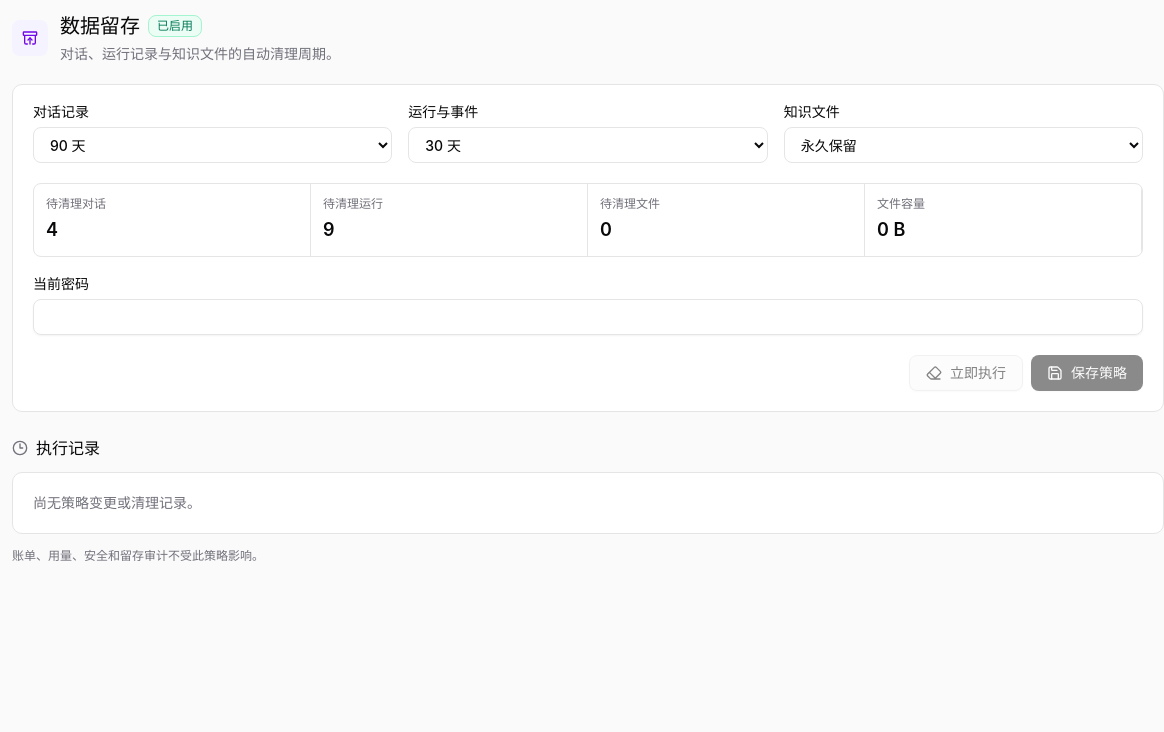
Test case: RetentionSettingsSection › saves a custom policy and requires confirmation before immediate cleanup
Expected: the heading "数据留存" is shown, x1=60 y1=12 x2=140 y2=40
Expected: the text "待清理对话" is shown, x1=46 y1=196 x2=106 y2=211
Select "180 天" in the dropdown named "对话记录留存周期". click: (213,145)
box: x1=33 y1=127 x2=392 y2=163
Select "90 天" in the dropdown named "运行与事件留存周期". click: (588,145)
box: x1=408 y1=127 x2=768 y2=163
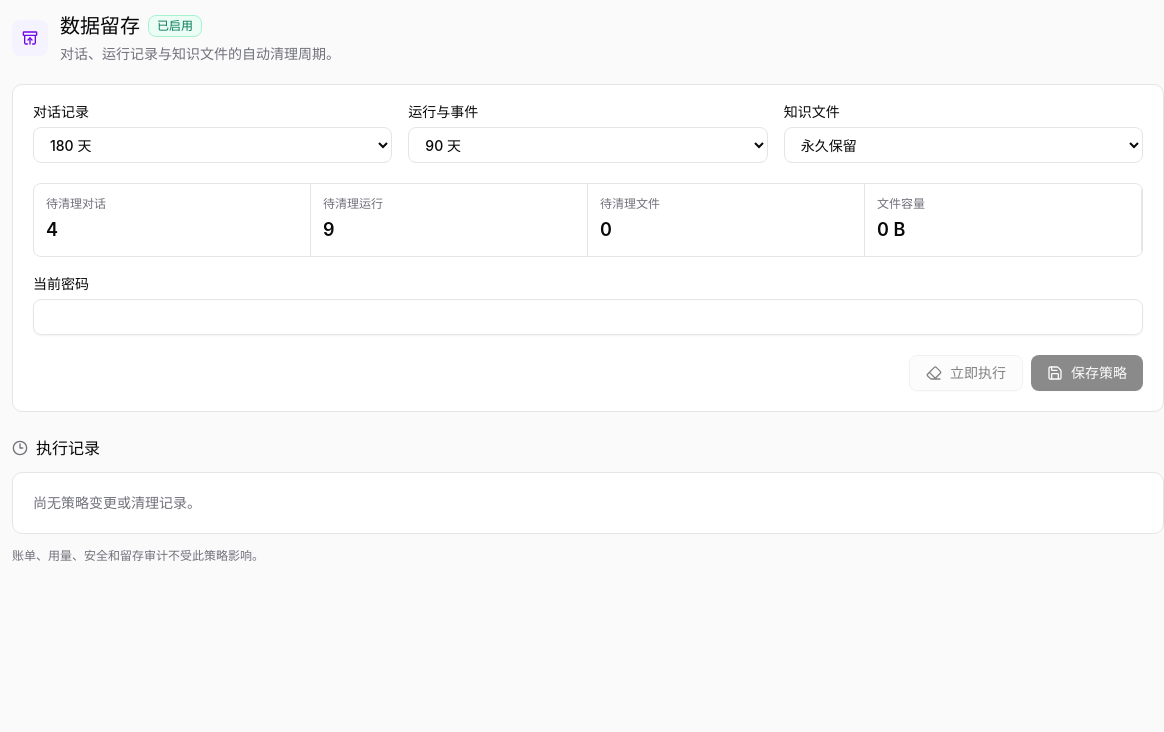
Type "current password" into the password field named "留存设置当前密码". click: (588,317)
box: x1=33 y1=299 x2=1143 y2=335
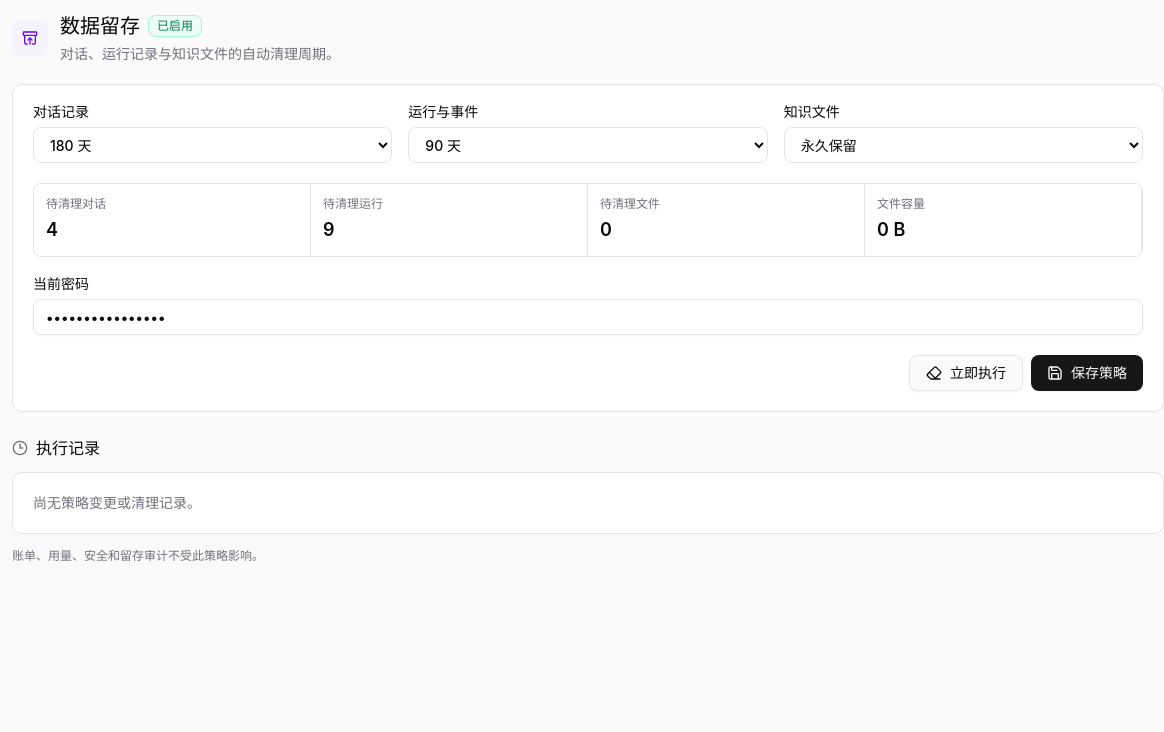
Click the button "保存策略". click: (1087,373)
box: x1=1031 y1=355 x2=1143 y2=391
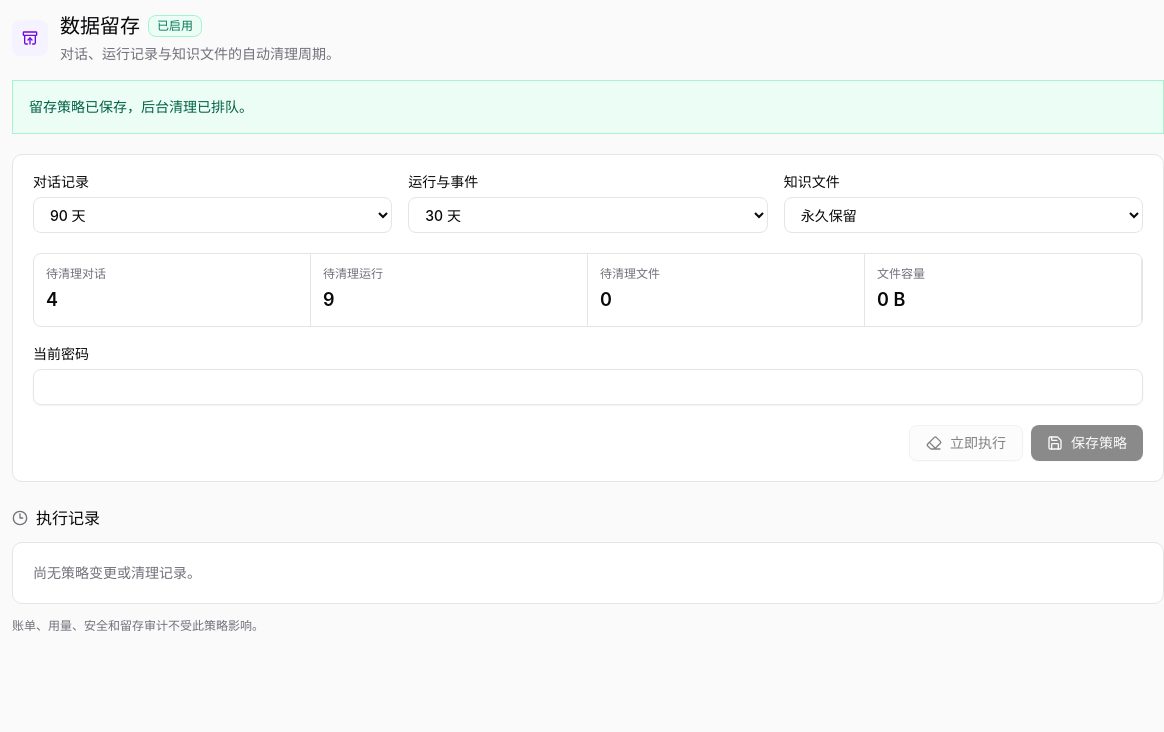
Result: the text "留存策略已保存，后台清理已排队。" is shown at x1=12 y1=80 x2=1163 y2=134
Type "current password" into the password field named "留存设置当前密码". click: (588,387)
box: x1=33 y1=369 x2=1143 y2=405
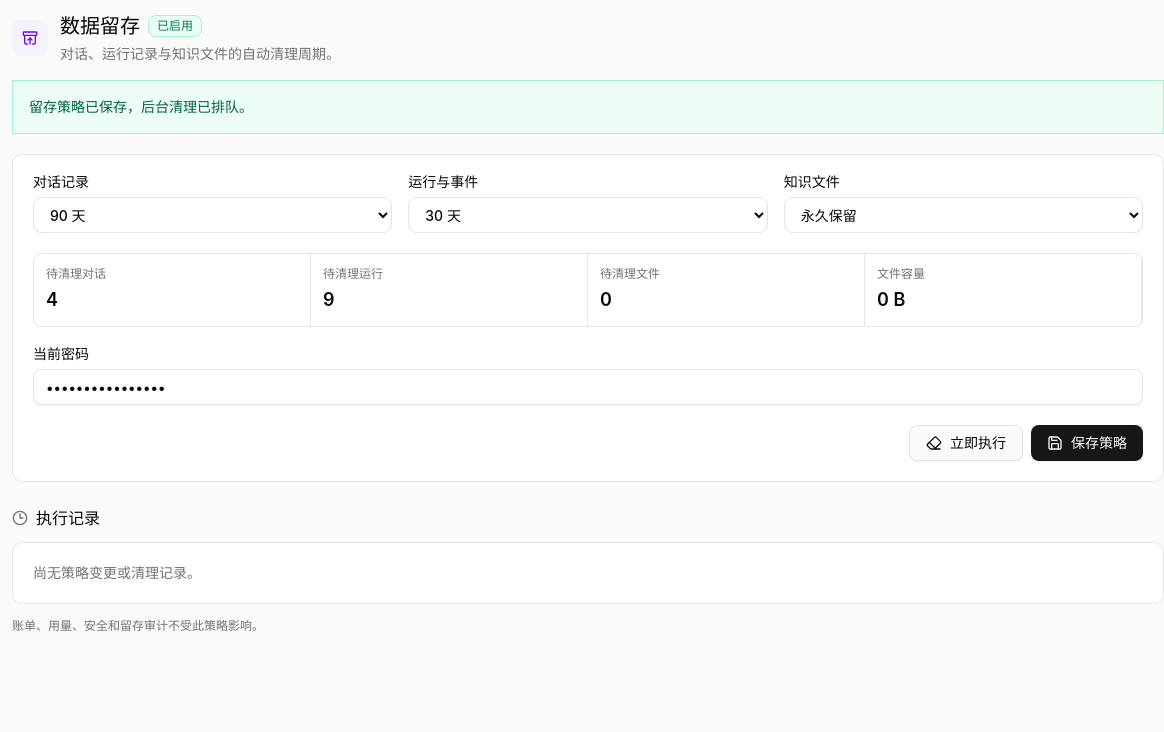
Click the button "立即执行". click: (966,443)
box: x1=909 y1=425 x2=1023 y2=461
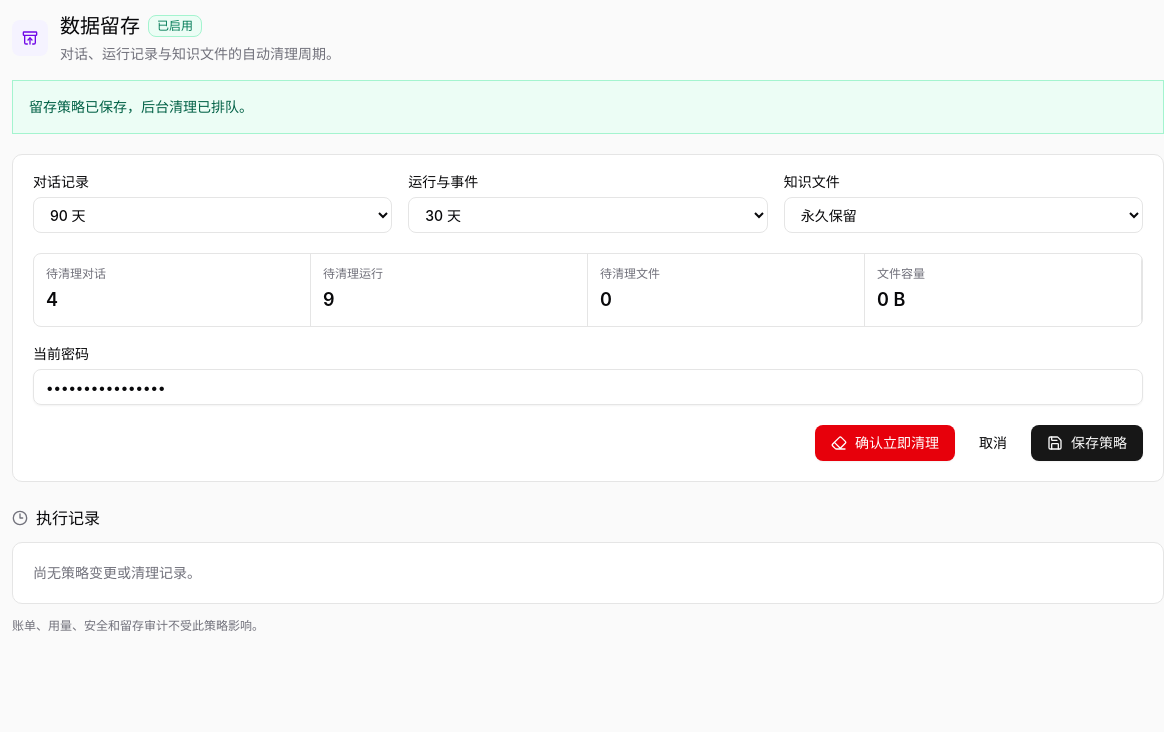
Click the button "确认立即清理". click: (885,443)
box: x1=815 y1=425 x2=955 y2=461
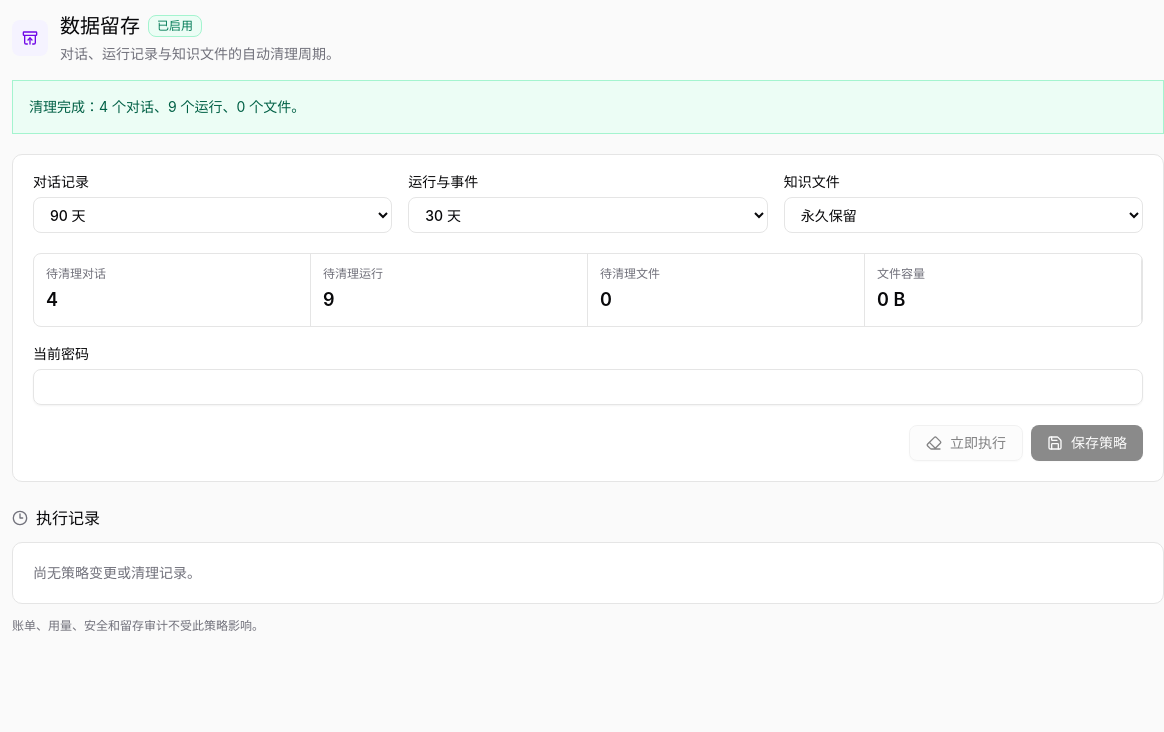
Result: the text "清理完成：4 个对话、9 个运行、0 个文件。" is shown at x1=12 y1=80 x2=1163 y2=134
